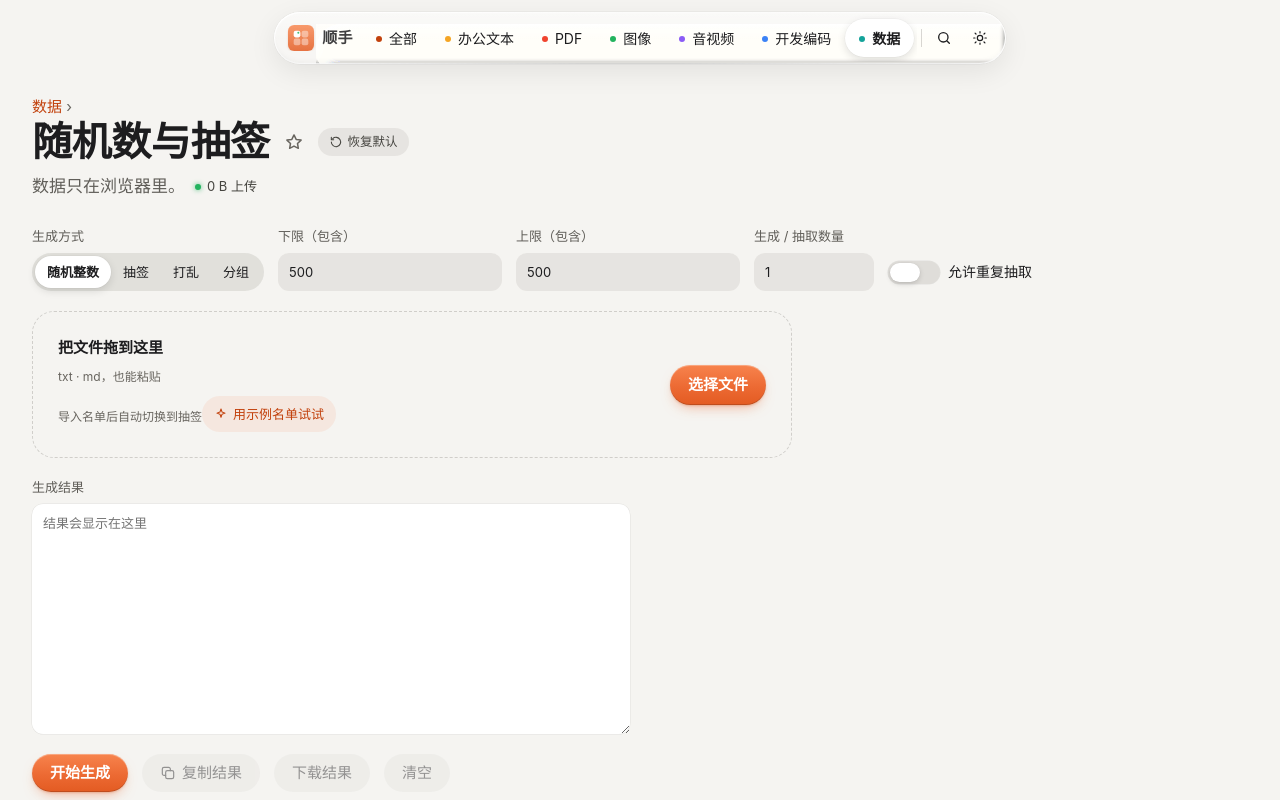
Scenario: 随机工具恢复默认后撤掉原范围的结果
The image size is (1280, 800).
Click the button "开始生成" at point(80, 774), box [32, 754, 128, 792]
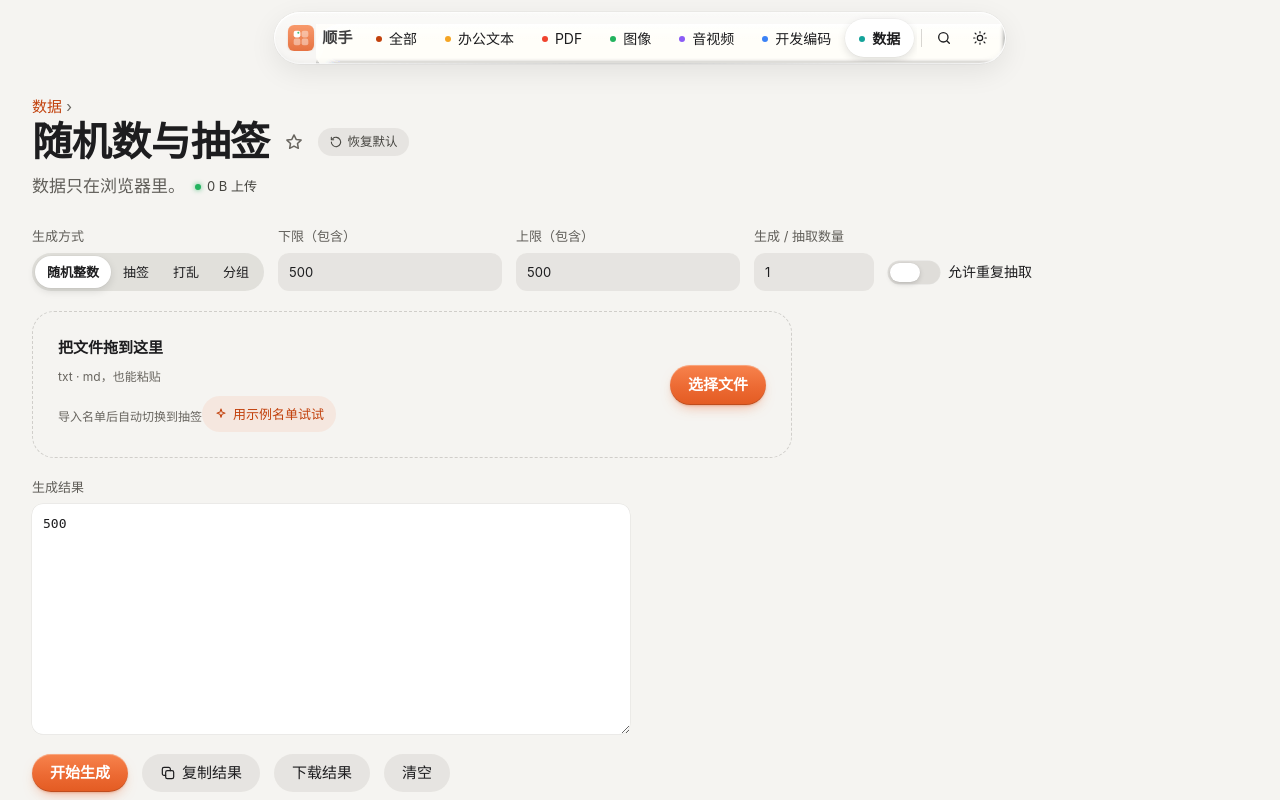
expect the text box labelled "生成结果" holds "500": met, box [32, 504, 630, 734]
Click the button "恢复默认" at point(363, 142), box [318, 128, 409, 156]
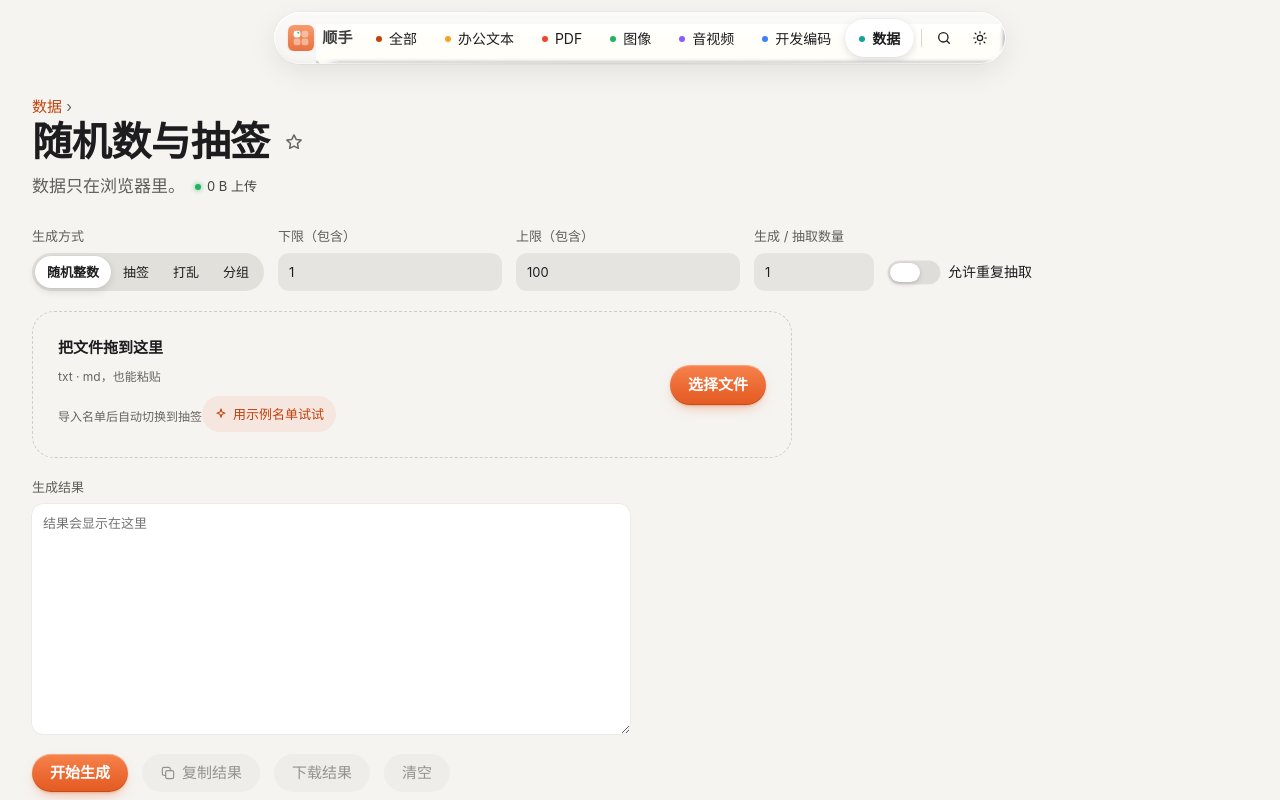
expect the text box labelled "生成结果" is empty: met, box [32, 504, 630, 734]
expect the button "下载结果" is disabled: met, box [274, 754, 370, 792]
